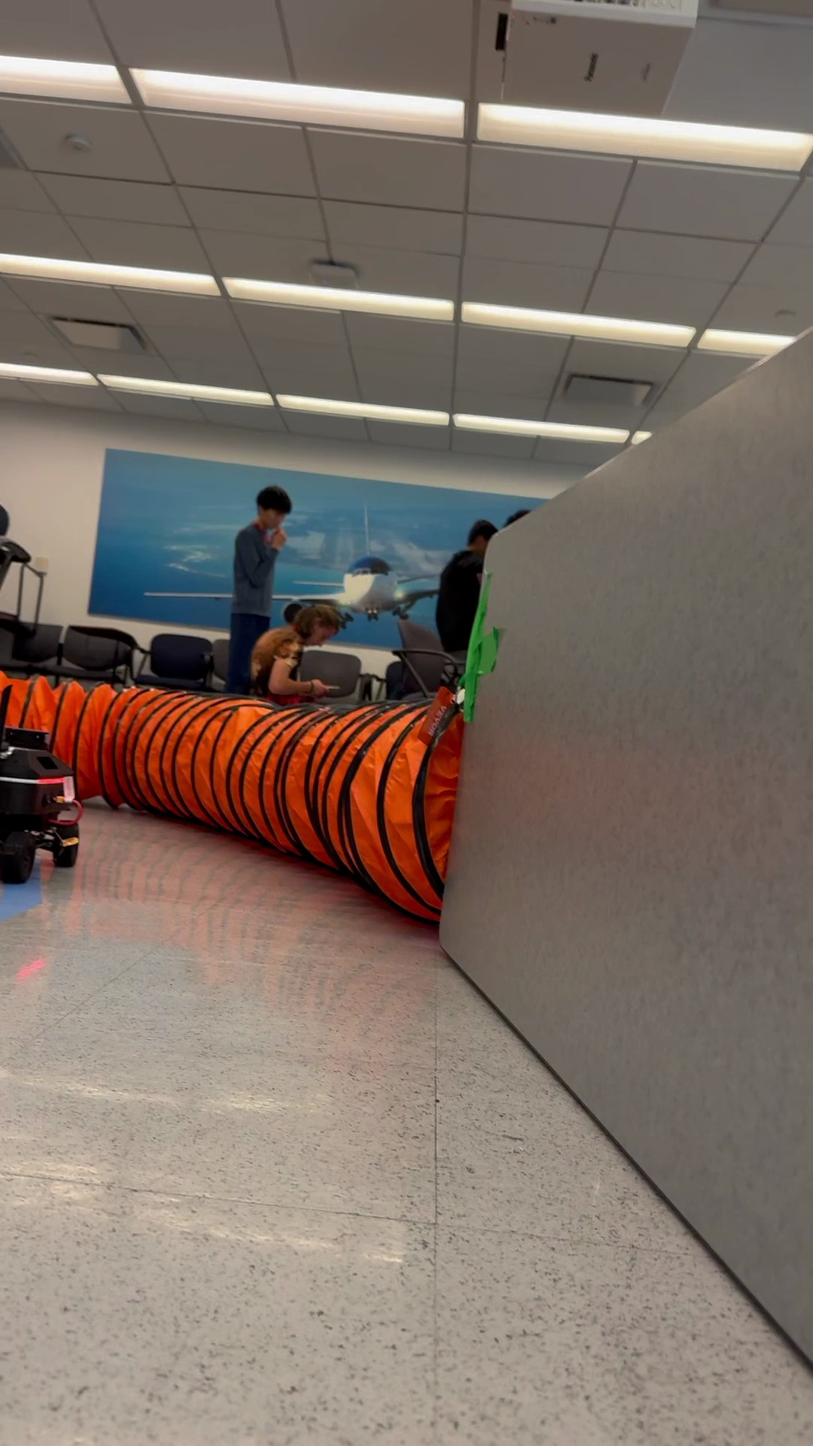racecar: (0, 725, 81, 880)
